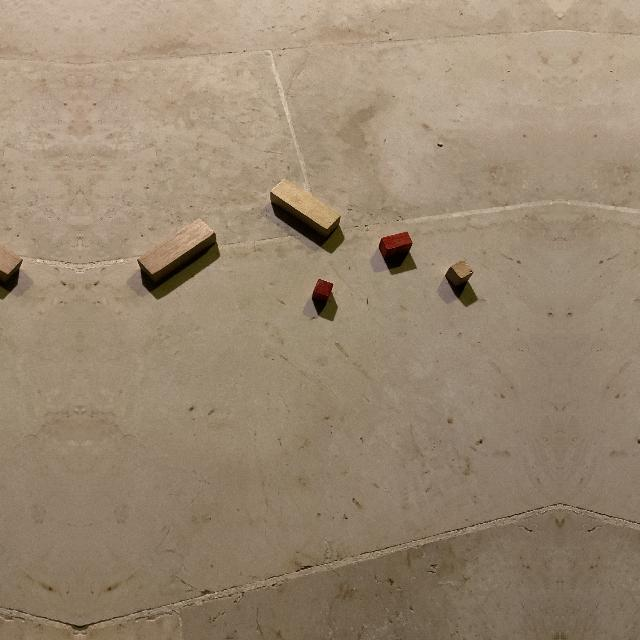cube: (446, 260, 474, 287)
jenga: (137, 219, 217, 293), (271, 179, 341, 238), (0, 241, 23, 293)
red block: (378, 231, 412, 259)
red cube: (311, 279, 334, 303)
